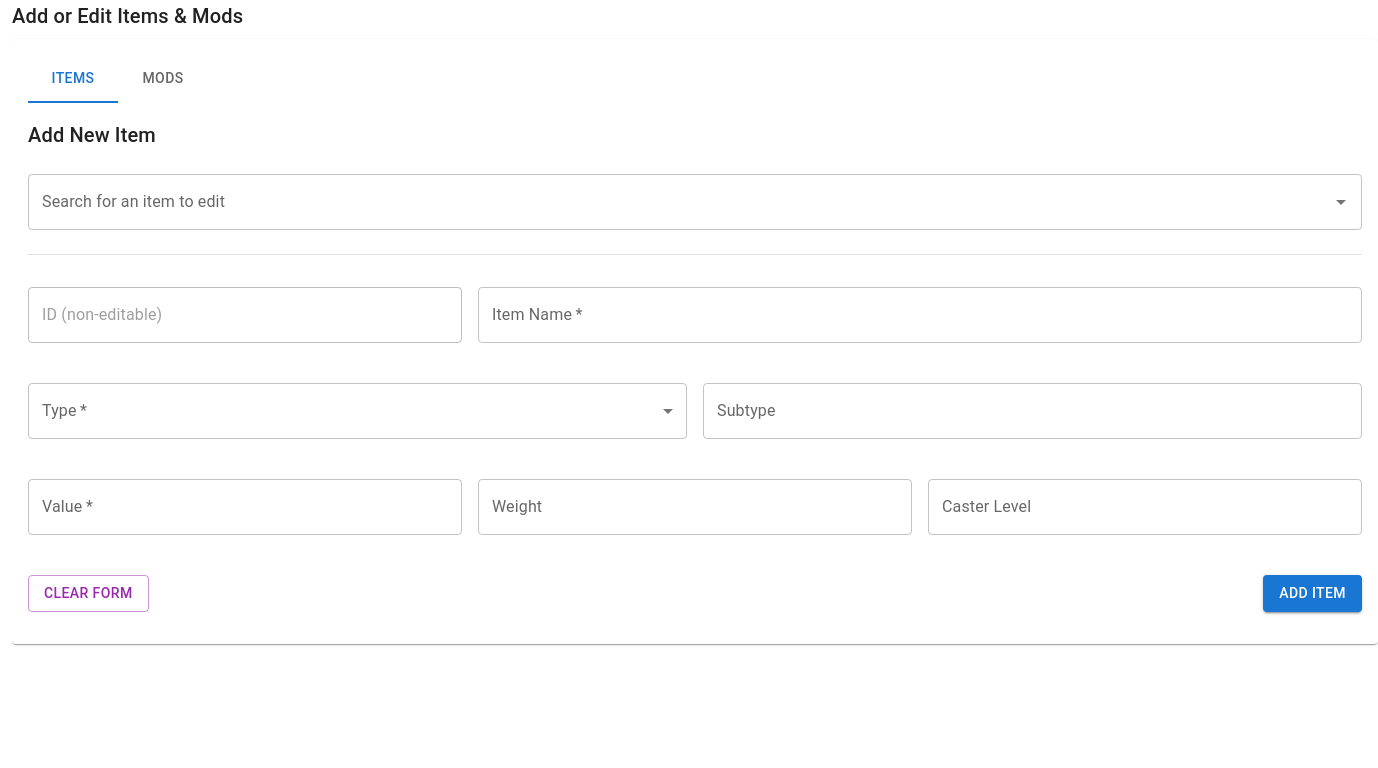
Test: AddItemMod › Items tab - validation › shows "Item name is required" when name is blank and does not POST
The image size is (1378, 768).
Expected: the heading "Add New Item" is shown, [28,123,156,147]
Click the button "Add Item". click: (1313, 593)
box: [1263,575,1362,612]
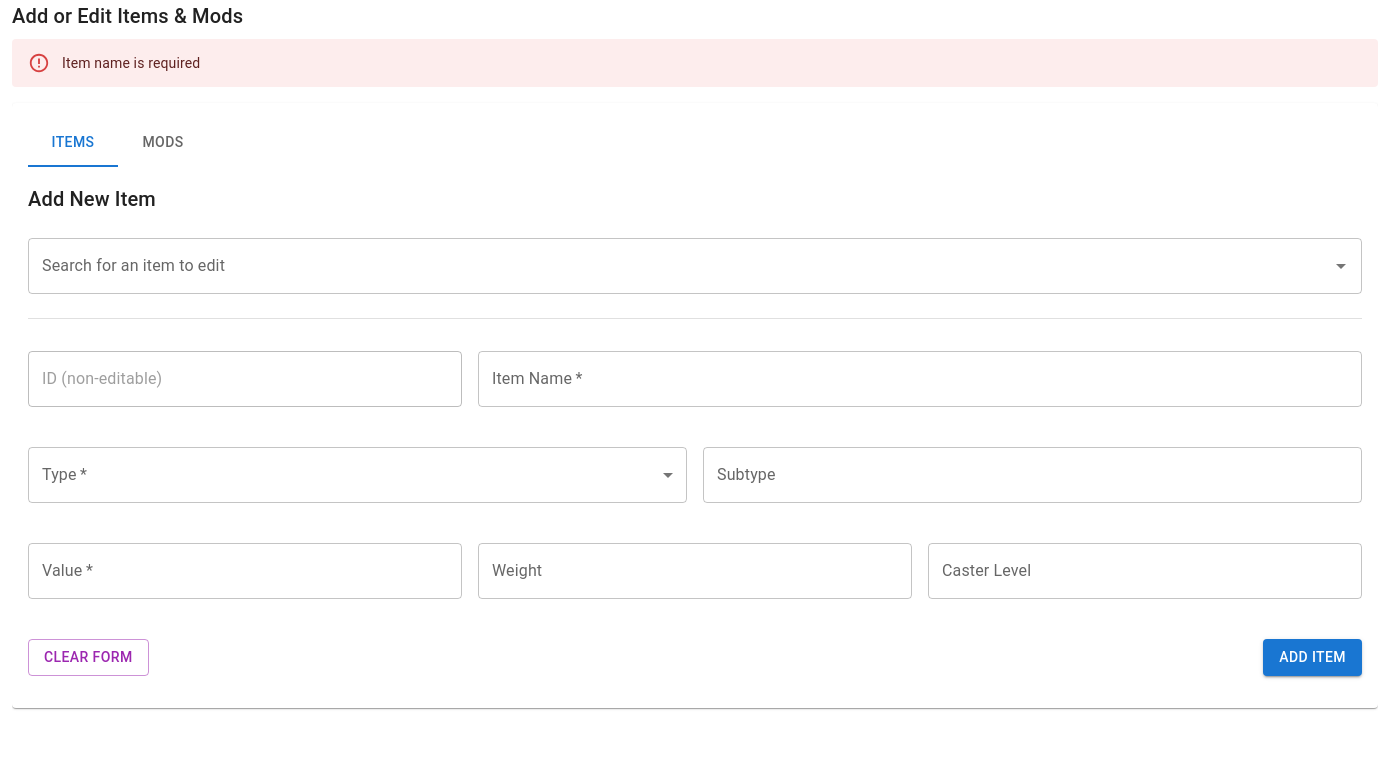
Result: the text "Item name is required" is shown at [62,55,200,71]
